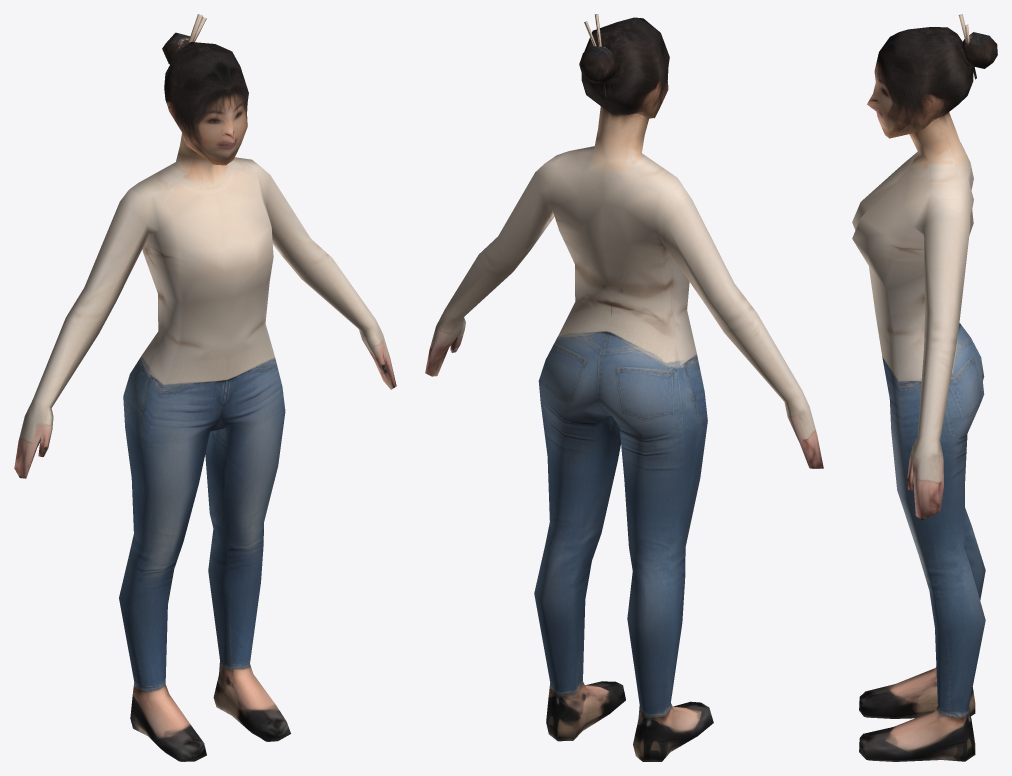
File: MayGoldenPSX.fbx
3 renders of one model, left to right at view 1: azimuth 30°, elevation 25°; view 2: azimuth 150°, elevation 25°; view 3: azimuth 270°, elevation 25°, orthographic. The views are drawn at different scales.
Visible parts, largest first — view 1: Mesh_0; view 2: Mesh_0; view 3: Mesh_0.
Boxes of the visible parts, x1=… form: Mesh_0: x1=14, y1=14, x2=396, y2=761; Mesh_0: x1=425, y1=14, x2=823, y2=761; Mesh_0: x1=852, y1=14, x2=997, y2=761.
Size of the model in its own units: 113 by 200 by 36.44.
1 material, 1 textured.
